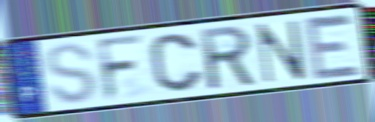C: (147, 31, 206, 94)
E: (302, 12, 364, 82)
F: (94, 32, 147, 104)
N: (255, 18, 308, 86)
R: (197, 23, 259, 92)
S: (44, 41, 99, 106)
